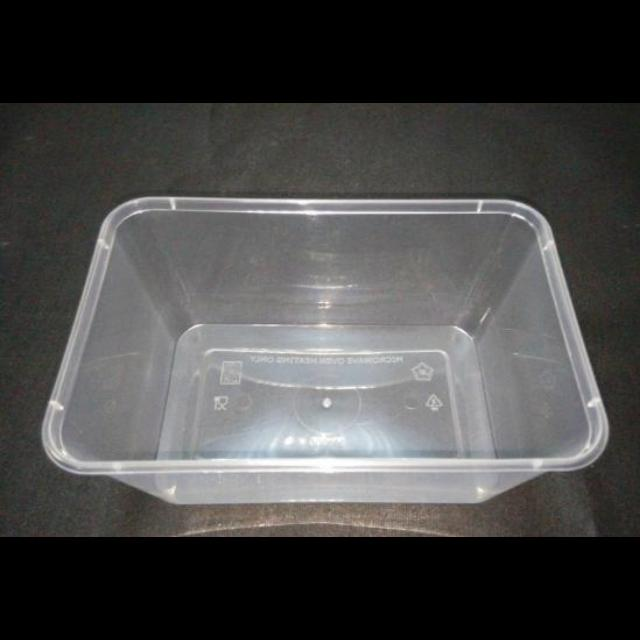plastic_box: (38, 192, 610, 508)
